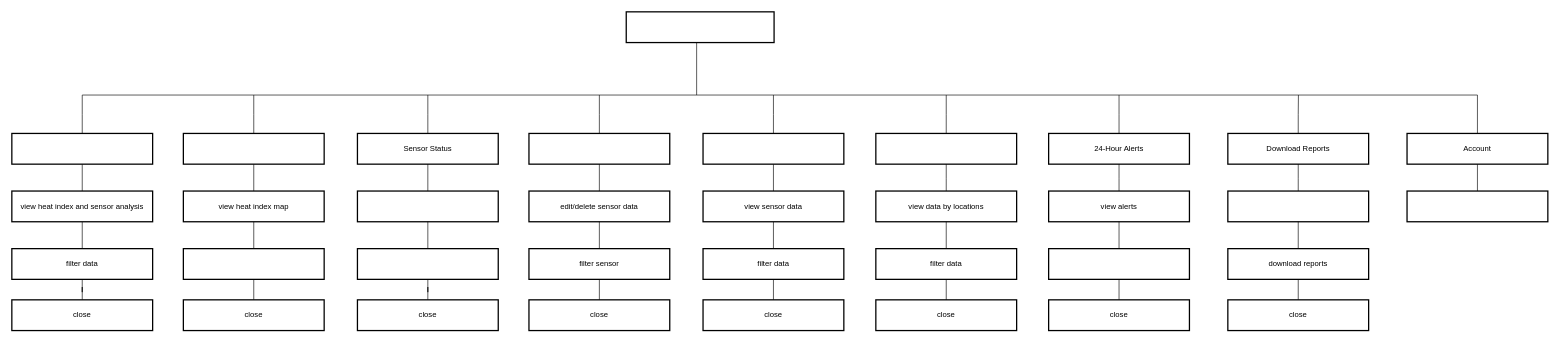
Image size: 1559x342. Some labels were removed from this diagram. The shapes that lost their labels are listed below. From the top down, each one's centre as x and y in pixels, then its label:
pixel 699 27: Admin
pixel 82 148: Heat Index Dashboard
pixel 253 148: Map View
pixel 599 148: Manage Sensors
pixel 773 148: Sensor Data View
pixel 946 148: Location-Based Data
pixel 427 206: view sensor status
pixel 1298 206: view reports
pixel 1477 206: Logout
pixel 253 264: filter active sensors
pixel 427 264: filter sensor status
pixel 1119 264: filter alerts
